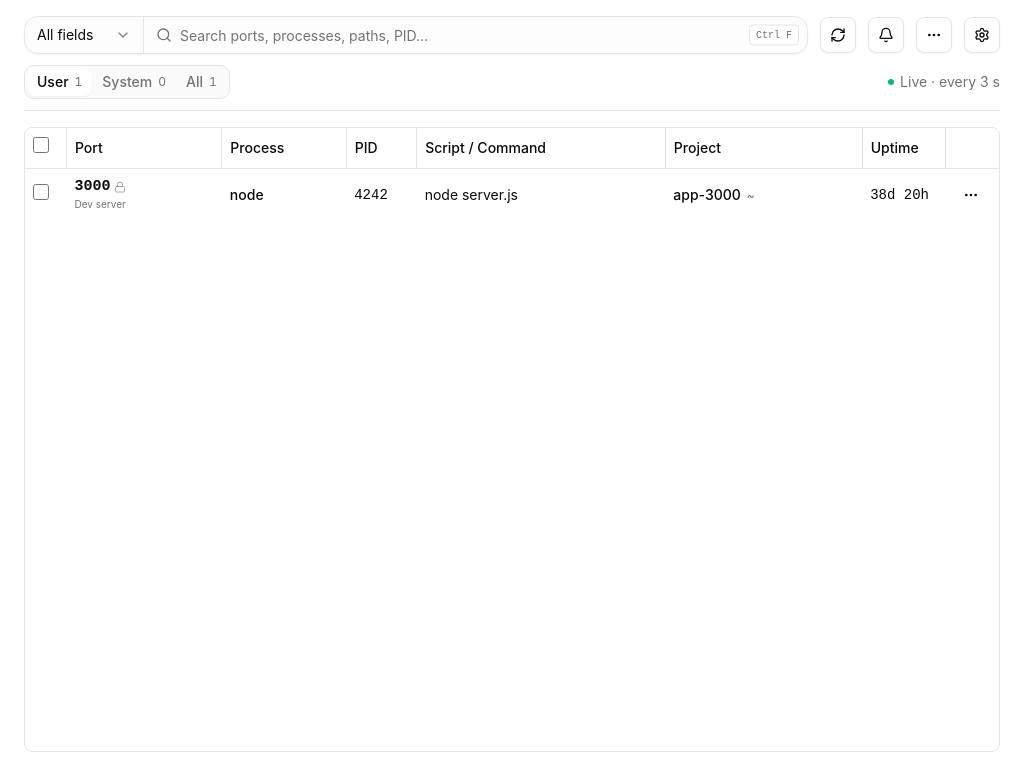
while a menu or a dialog is open › closes a stop dialog whose process is no longer listed
Click the button named "Actions for node" at (971, 194), box [953, 176, 989, 212]
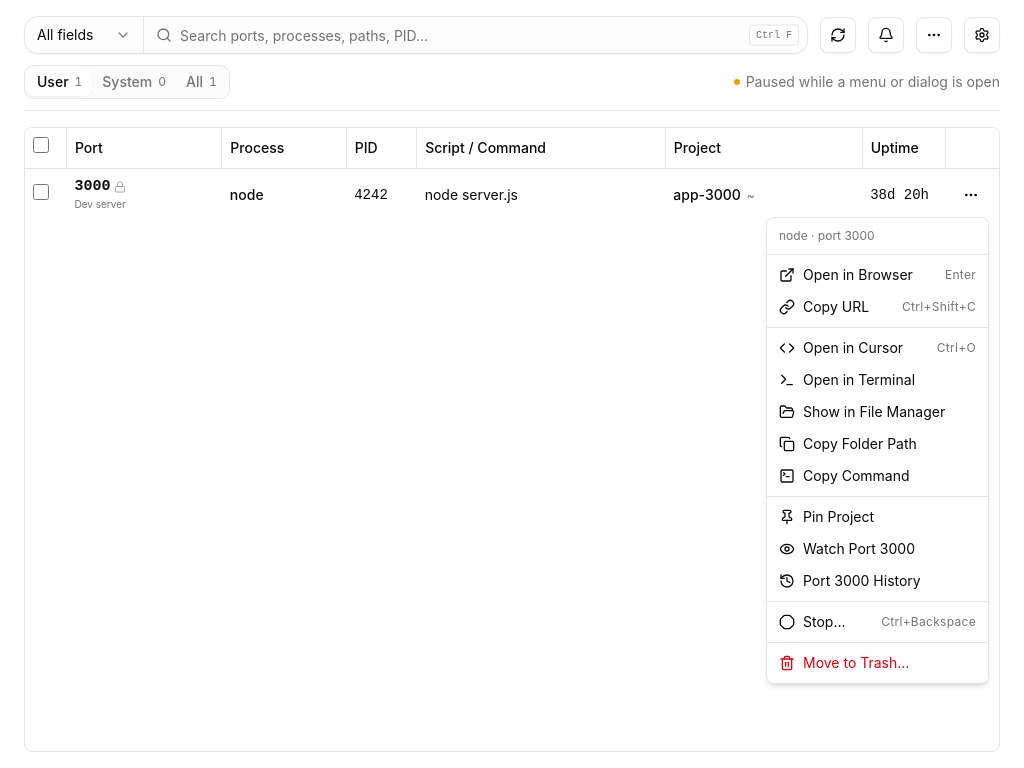
Click the menu item "Stop… Ctrl+Backspace" at (824, 622), box [779, 613, 976, 630]
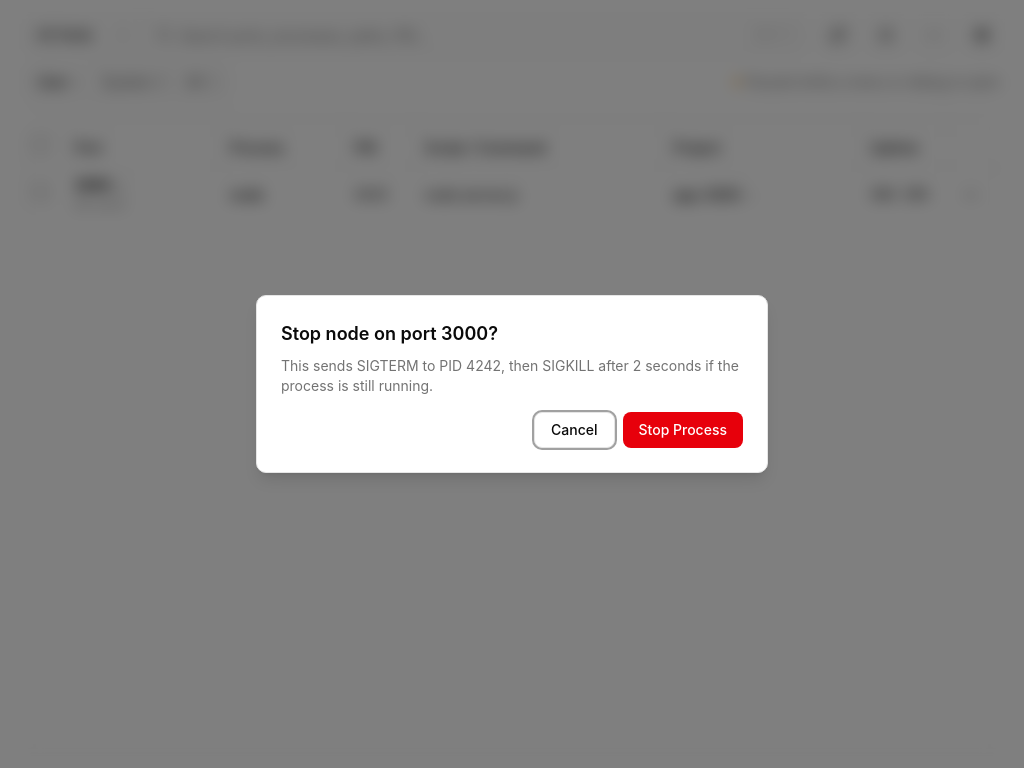
Click the button "Stop Process" at (683, 430), box [622, 412, 743, 448]
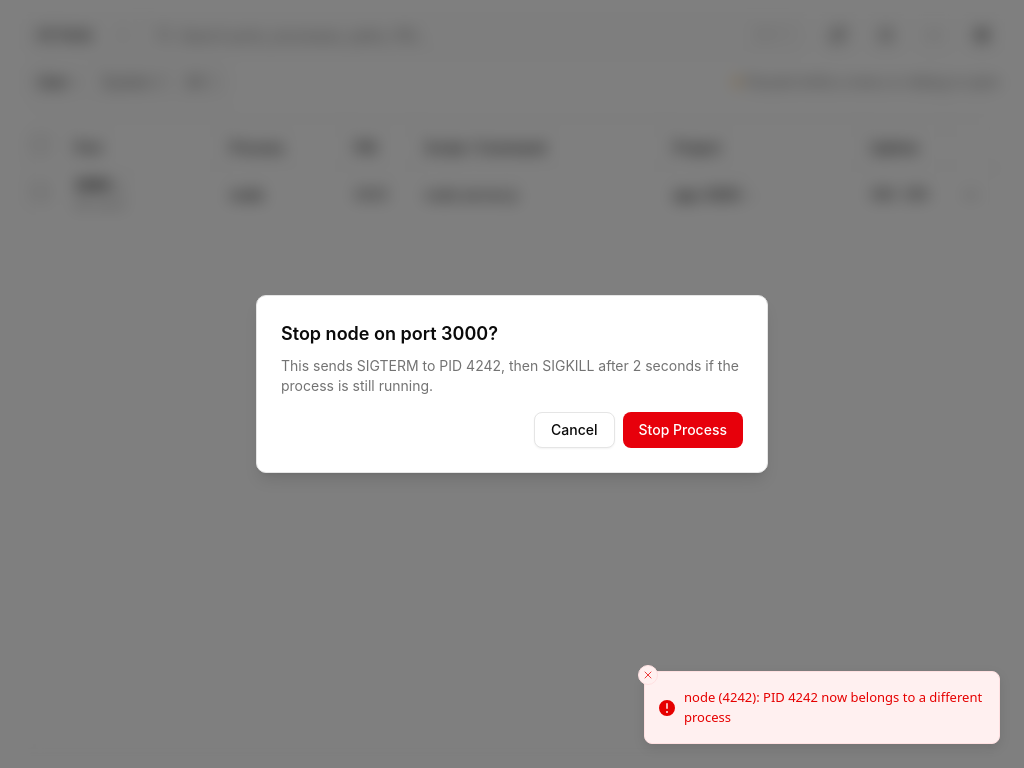
Result: the dialog is shown at [256, 295, 768, 473]
Result: the text "node (4242): PID 4242 now belongs to a different process" is shown at [684, 688, 983, 727]
